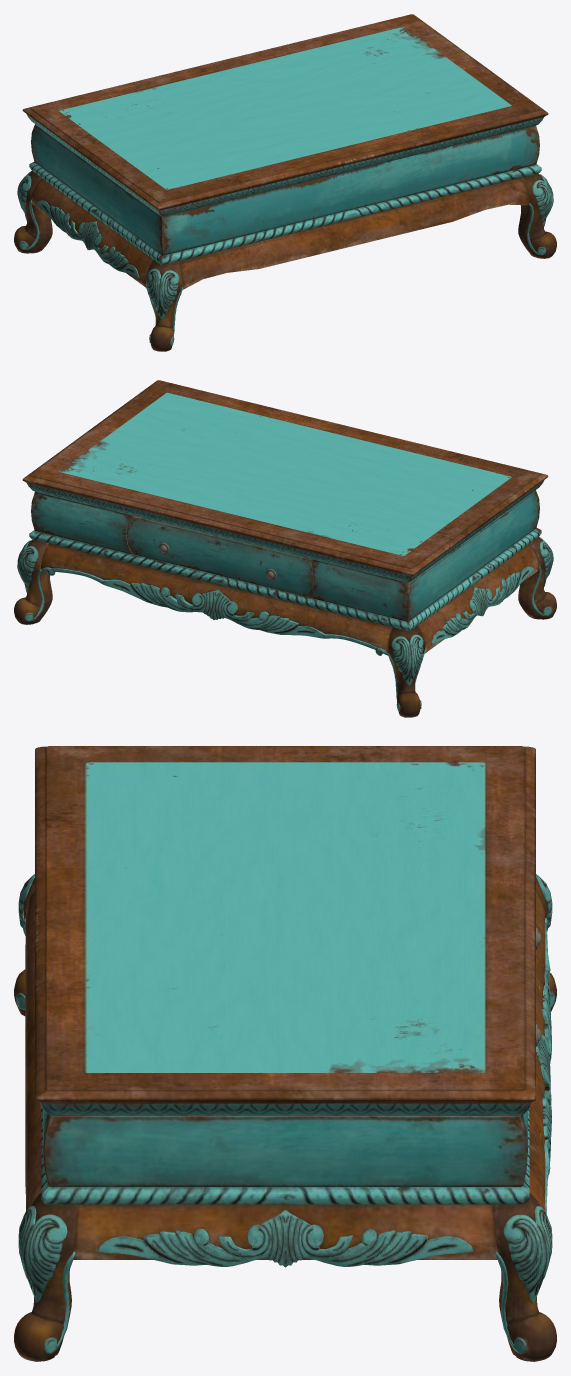
The picture shows the model from 3 angles, top to bottom: view 1: azimuth 30°, elevation 25°; view 2: azimuth 150°, elevation 25°; view 3: azimuth 270°, elevation 25°; orthographic projection. The views are drawn at different scales.
Visible parts, largest first — view 1: CoffeeTable_01; view 2: CoffeeTable_01; view 3: CoffeeTable_01.
Part boxes in pixels (bbox=[...]): CoffeeTable_01: bbox=[14, 14, 556, 351]; CoffeeTable_01: bbox=[14, 380, 556, 717]; CoffeeTable_01: bbox=[14, 746, 556, 1361].
Bounding box in the file's own units: 120 × 40.77 × 75.81.
Materials: 1 (1 with a texture image).
